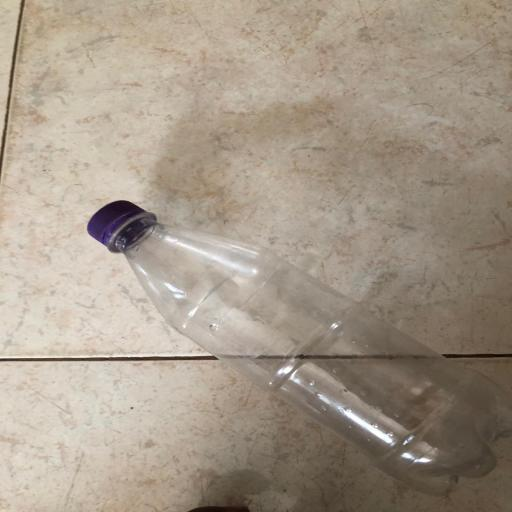waste: (75, 184, 508, 498)
